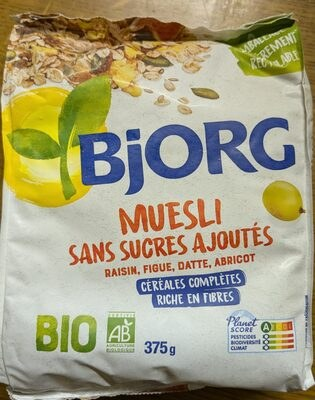Muesli Raisin, Figue, Datte, Abricot: (16, 20, 299, 380)
